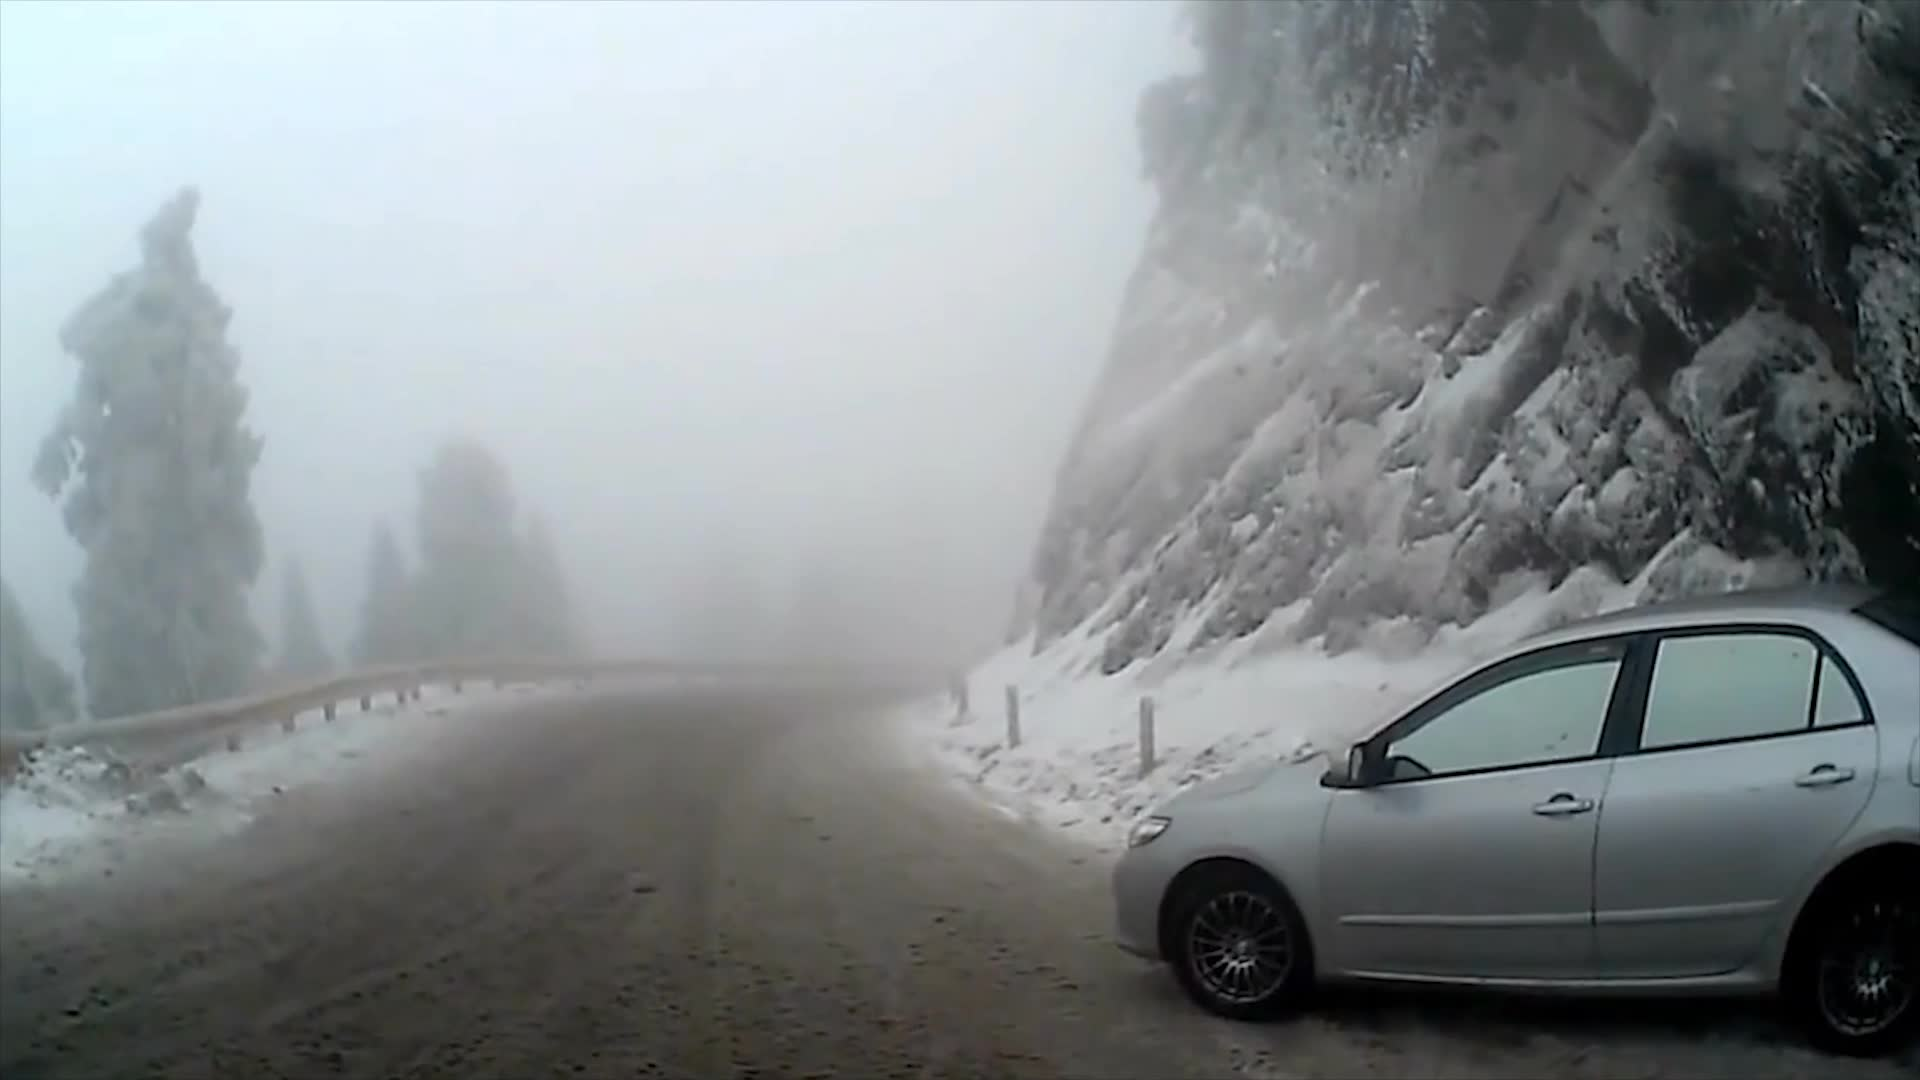vehicle: (1108, 582, 1920, 1060)
